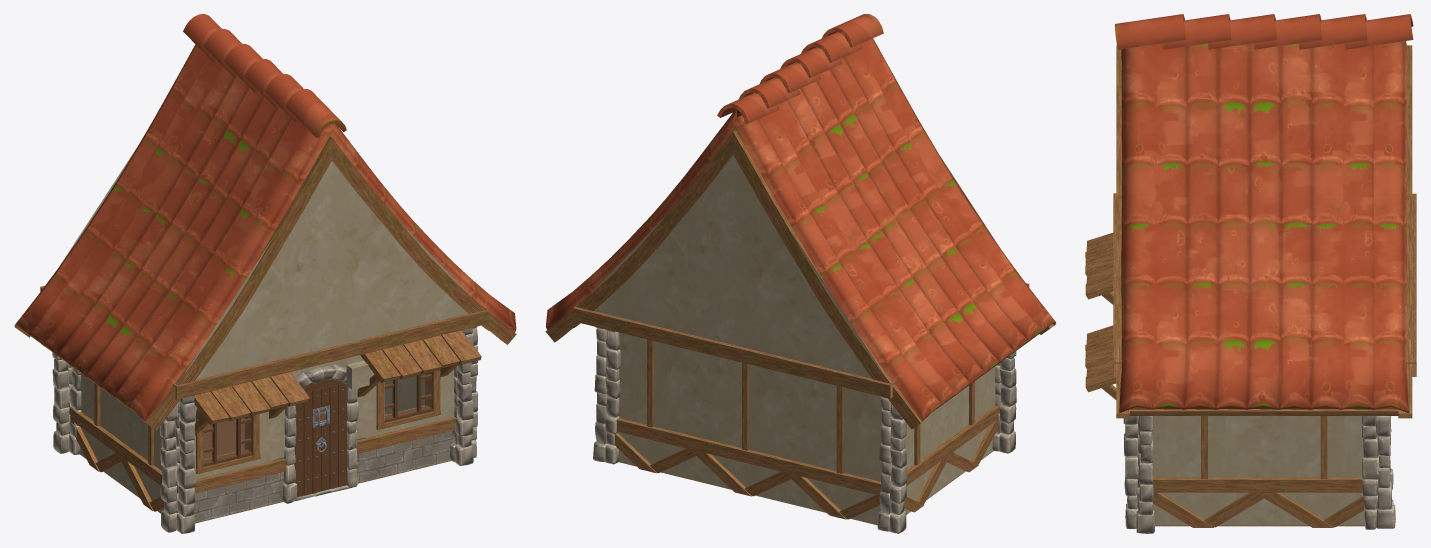
File: Building3Animation_Modular.glb
The picture shows the model from 3 angles, left to right: view 1: azimuth 30°, elevation 25°; view 2: azimuth 150°, elevation 25°; view 3: azimuth 270°, elevation 25°; orthographic projection. The views are drawn at different scales.
Visible parts, largest first — view 1: BA_Roof_01, BA_Wall_02, BA_Trim_05, BA_Trim_06, BA_Wall_04, BA_Trim_02, BA_Trim_04, BA_Trim_01, BA_Trim_03, BA_Wall_05, BA_Floor_01; view 2: BA_Roof_01, BA_Wall_04, BA_Wall_02, BA_Trim_04, BA_Trim_02, BA_Trim_05, BA_Trim_03, BA_Floor_01; view 3: BA_Roof_01, BA_Wall_04, BA_Trim_04, BA_Trim_02, BA_Trim_05, BA_Trim_06, BA_Trim_03, BA_Floor_01.
Part boxes in pixels (<box>): BA_Roof_01: <box>14,14,516,422</box>; BA_Wall_02: <box>60,143,471,379</box>; BA_Trim_05: <box>52,326,477,533</box>; BA_Trim_06: <box>194,330,481,474</box>; BA_Wall_04: <box>80,355,454,513</box>; BA_Trim_02: <box>14,131,516,430</box>; BA_Trim_04: <box>70,383,455,511</box>; BA_Trim_01: <box>294,379,347,497</box>; BA_Trim_03: <box>40,286,488,399</box>; BA_Wall_05: <box>194,431,453,522</box>; BA_Floor_01: <box>54,409,475,532</box>; BA_Roof_01: <box>546,14,1055,421</box>; BA_Wall_04: <box>618,332,995,524</box>; BA_Wall_02: <box>588,155,994,378</box>; BA_Trim_04: <box>614,339,999,519</box>; BA_Trim_02: <box>545,130,1055,429</box>; BA_Trim_05: <box>593,326,1016,533</box>; BA_Trim_03: <box>573,283,1029,398</box>; BA_Floor_01: <box>594,421,1014,525</box>; BA_Roof_01: <box>1114,14,1413,412</box>; BA_Wall_04: <box>1152,416,1378,525</box>; BA_Trim_04: <box>1152,416,1378,527</box>; BA_Trim_02: <box>1116,45,1412,418</box>; BA_Trim_05: <box>1123,416,1395,533</box>; BA_Trim_06: <box>1085,232,1116,399</box>; BA_Trim_03: <box>1113,193,1416,376</box>; BA_Floor_01: <box>1126,492,1395,529</box>.
Size of the model in its own units: 8.25 by 8.02 by 5.54.
9 materials, 8 textured.
